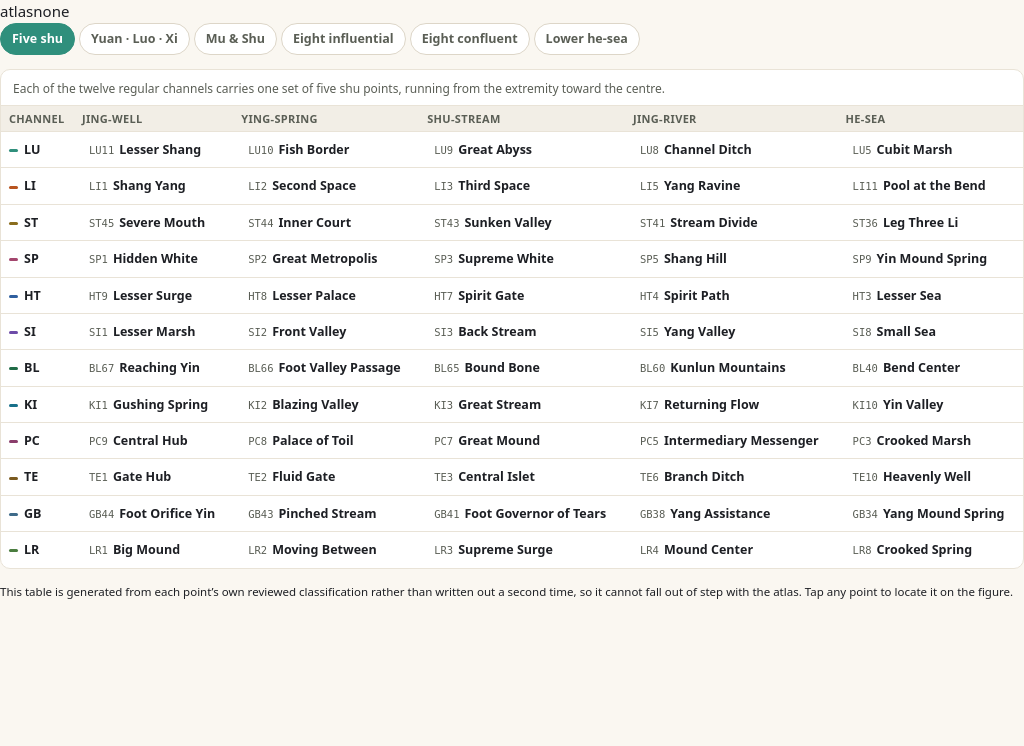
Test: specific-point matrix → atlas handoff › makes the same handoff from a tab reached later, and from the mu column
The width and height of the screenshot is (1024, 746).
Click the tab "Mu & Shu": click(235, 39) [194,23,277,55]
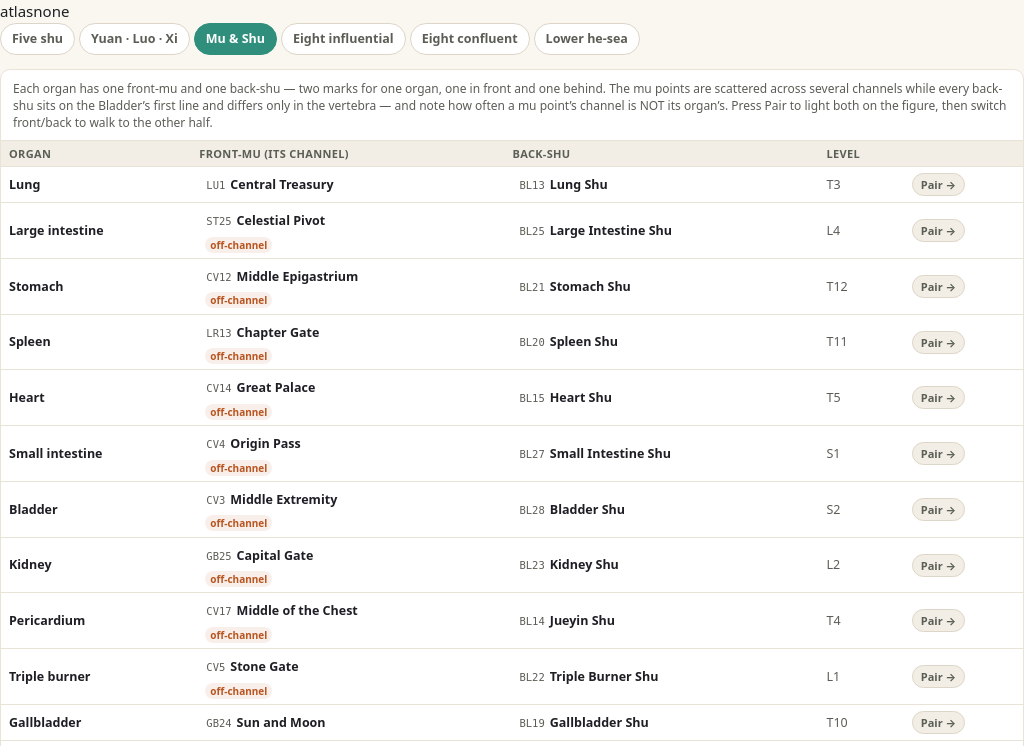
Click the button "CV12 Middle Epigastrium": click(348, 277) [199,263,496,290]
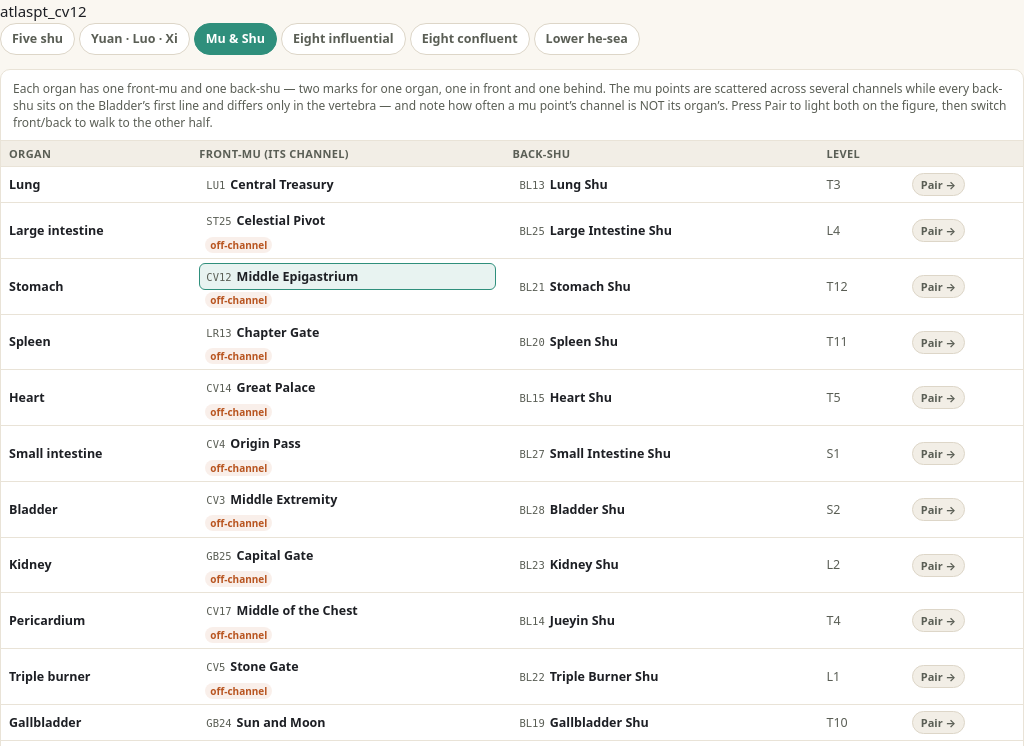
Expected: the text with test id "route" reads "atlas", [0,1,33,21]
Expected: the text with test id "focus" reads "pt_cv12", [33,1,87,21]
